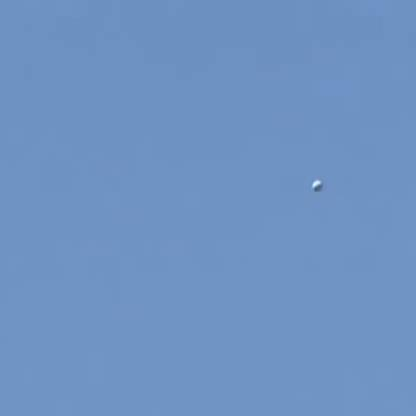golfball: (309, 177, 320, 190)
